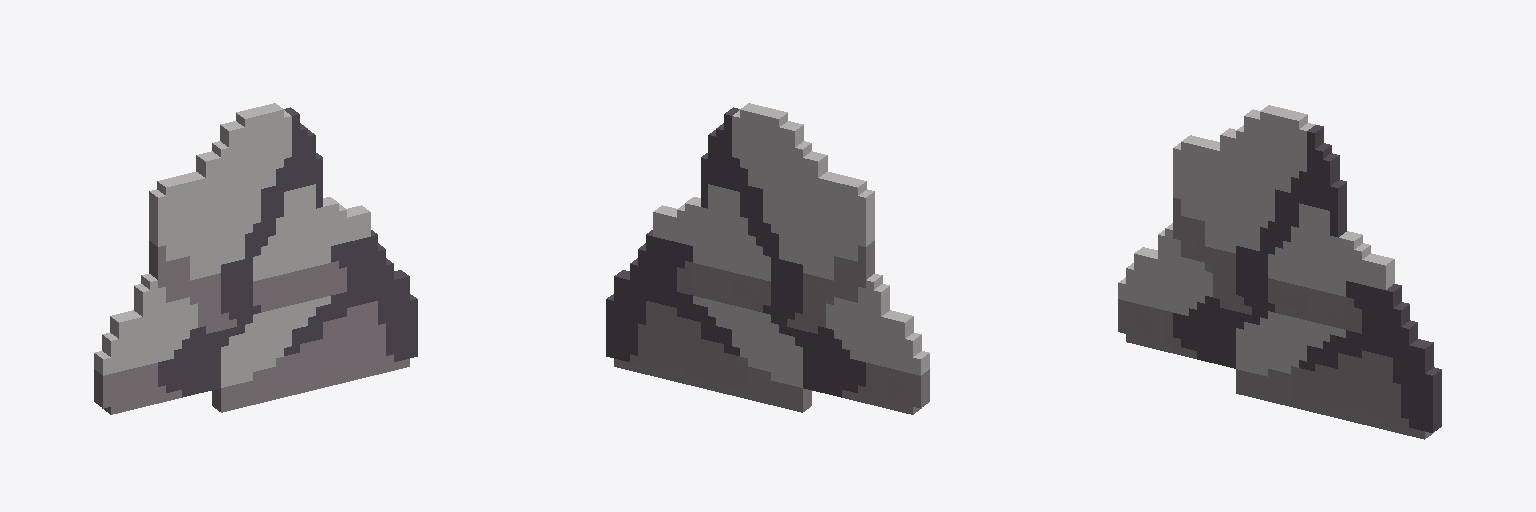
The picture shows the model from 3 angles: view 1: azimuth 30°, elevation 25°; view 2: azimuth 150°, elevation 25°; view 3: azimuth 330°, elevation 25°; orthographic projection.
Visible parts, largest first — view 1: object 1; view 2: object 1; view 3: object 1.
Part boxes in pixels (x1,y1,x2,y2): object 1: (94,103,417,414); object 1: (606,103,929,414); object 1: (1118,105,1441,439).
Size of the model in its own units: 4 by 3.5 by 0.2.
1 materials, 1 textured.